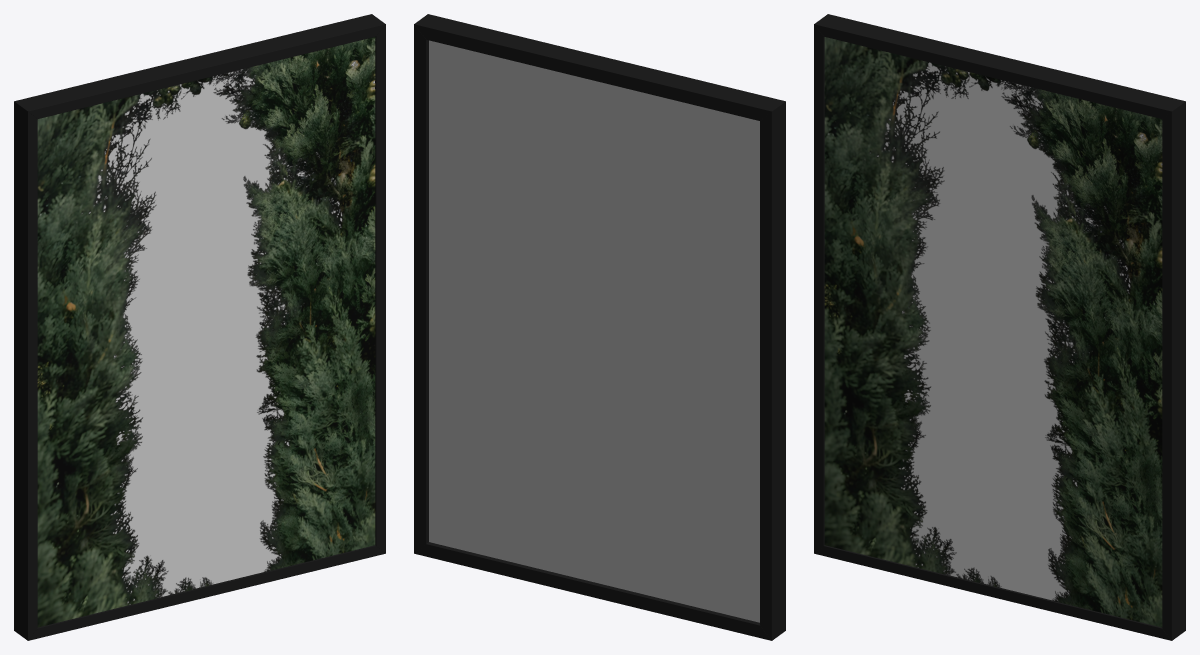
3 renders of one model, left to right at view 1: azimuth 30°, elevation 25°; view 2: azimuth 150°, elevation 25°; view 3: azimuth 330°, elevation 25°, orthographic.
Parts seen in each view (by area): view 1: 4829; view 2: 4829; view 3: 4829.
Boxes of the visible parts, x1,y1,x2,y2 form: 4829: (14, 14, 385, 640); 4829: (414, 14, 785, 640); 4829: (814, 14, 1185, 640).
Size of the model in its own units: 0.297 by 0.42 by 0.02.
3 materials, 2 textured.
